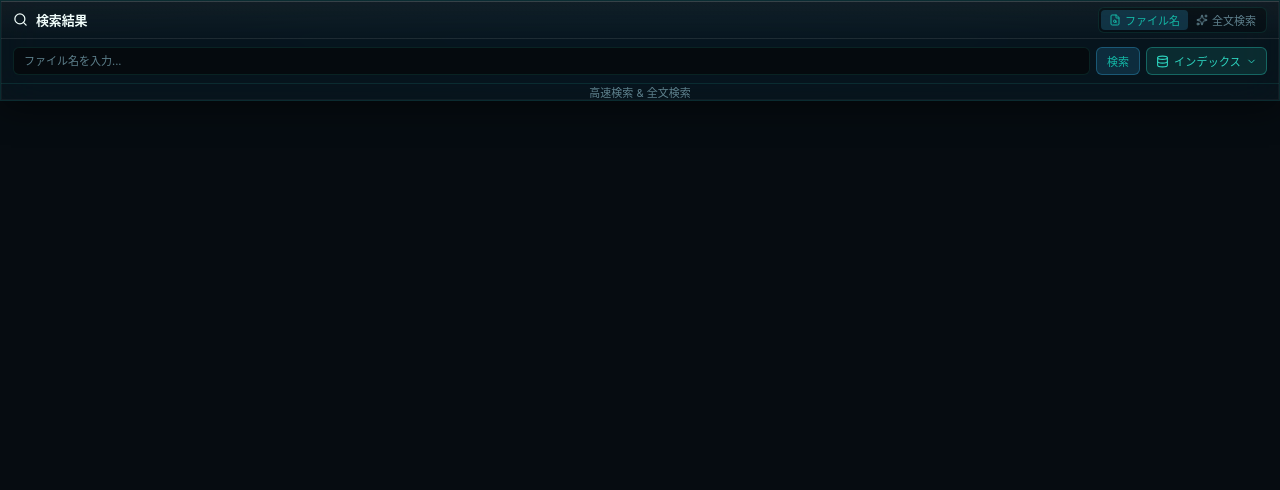
Test: Phase 13: Search, Indexing, and Text Extraction Evolution › Task 1-1: Index Repair Queue Integration › fetches and displays repair queue pending count badge in index menu
Note: Open index dropdown
Click the button "インデックス" at x=1206, y=61, box x1=1146 y1=47 x2=1267 y2=75
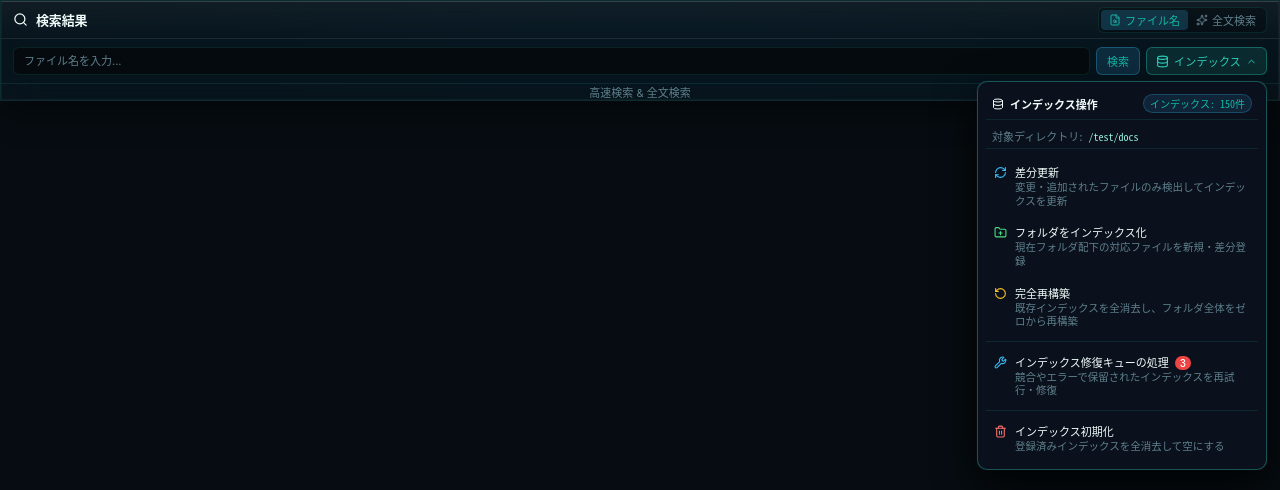
Check: the text "インデックス修復キューの処理" is shown, box x1=1015 y1=356 x2=1169 y2=370
Check: the text "3" is shown, box x1=1175 y1=356 x2=1191 y2=370
